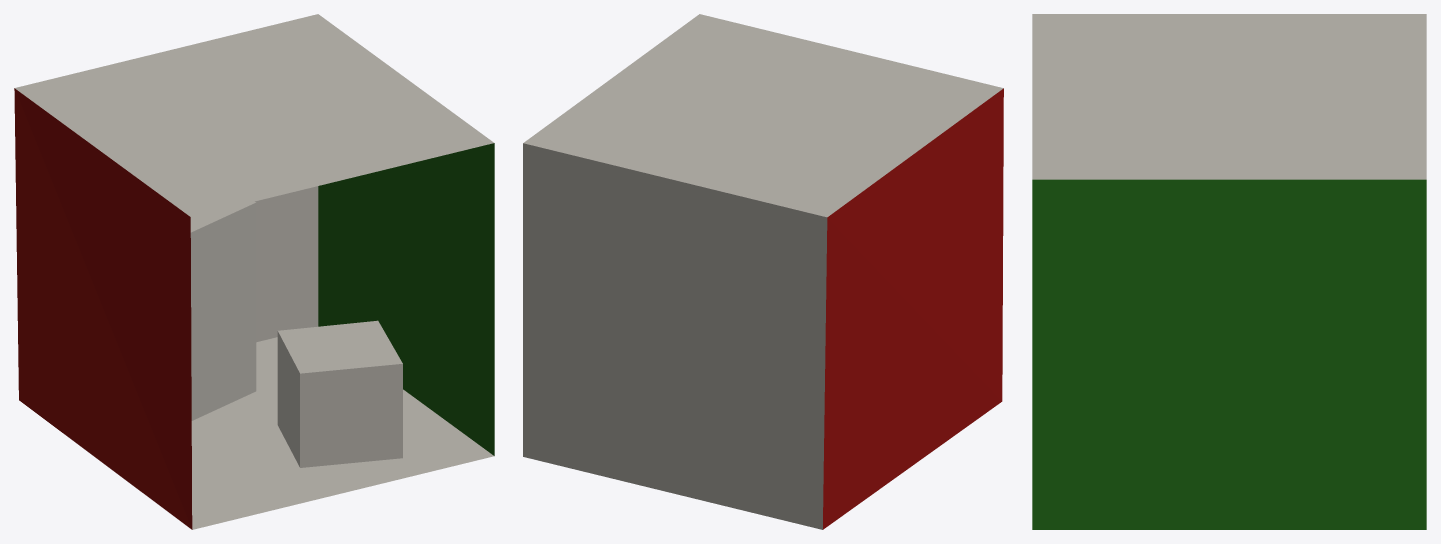
The model's file is CornellBox-lights.obj.
The picture shows the model from 3 angles, left to right: view 1: azimuth 30°, elevation 25°; view 2: azimuth 150°, elevation 25°; view 3: azimuth 270°, elevation 25°; orthographic projection. The views are drawn at different scales.
Parts seen in each view (by area): view 1: leftWall, ceiling, rightWall, floor, leftLight2, shortBox, backWall; view 2: backWall, leftWall, ceiling; view 3: rightWall, ceiling.
Part boxes in pixels (bbox=[...]): leftWall: bbox=[14, 88, 192, 529]; ceiling: bbox=[15, 14, 493, 216]; rightWall: bbox=[318, 143, 494, 455]; floor: bbox=[191, 337, 493, 529]; leftLight2: bbox=[277, 320, 402, 467]; shortBox: bbox=[190, 201, 256, 420]; backWall: bbox=[255, 186, 318, 342]; backWall: bbox=[523, 143, 827, 529]; leftWall: bbox=[823, 88, 1003, 529]; ceiling: bbox=[523, 14, 1003, 217]; rightWall: bbox=[1032, 179, 1426, 529]; ceiling: bbox=[1032, 14, 1426, 179].
Size of the model in its own units: 2.02 by 1.99 by 2.03.
